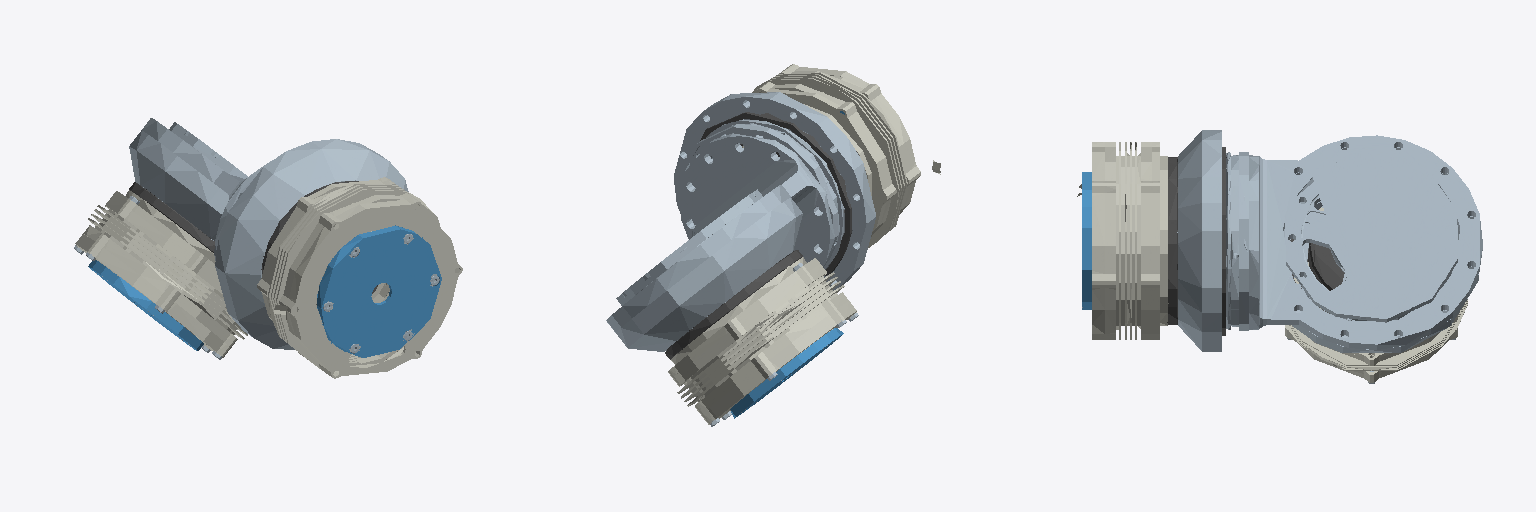
3 renders of one model, left to right at view 1: azimuth 30°, elevation 25°; view 2: azimuth 150°, elevation 25°; view 3: azimuth 270°, elevation 25°, orthographic.
Bounding box in the file's own units: 0.1431 × 0.1431 × 0.2041.
1 materials, 1 textured.